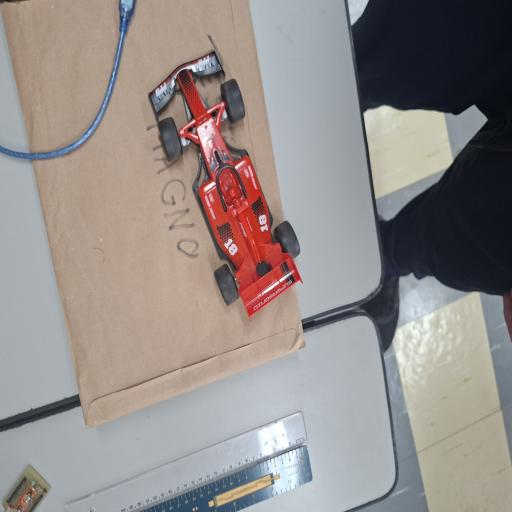carro: (150, 53, 301, 316)
